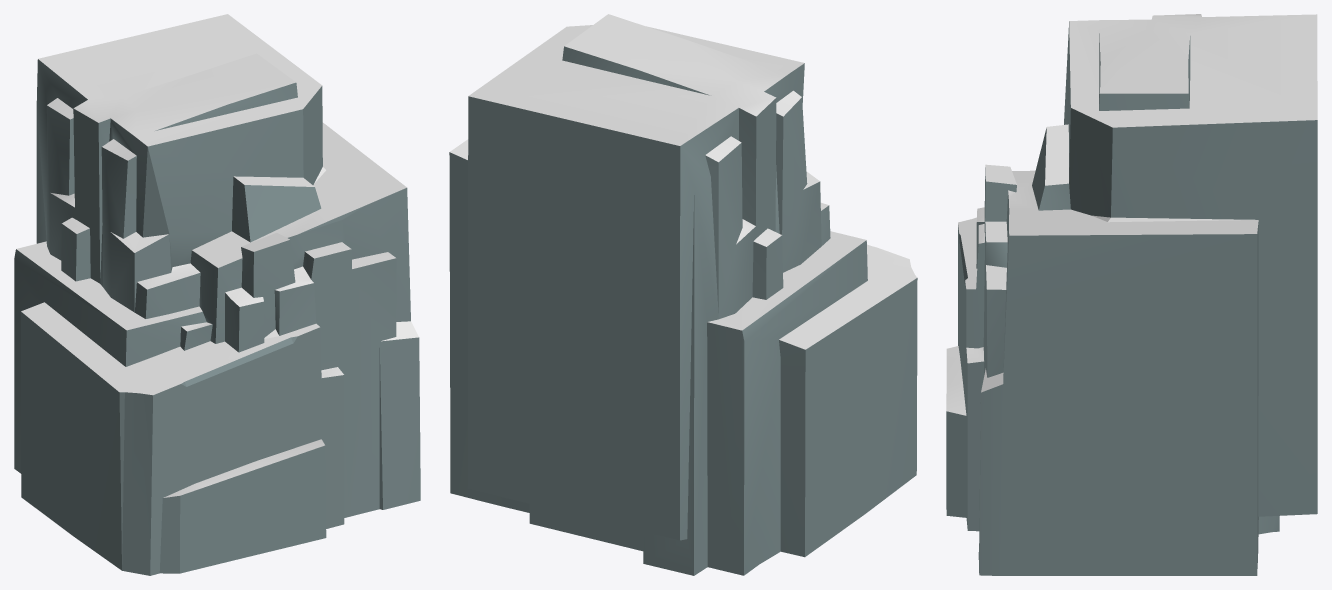
Rendered from SM_Cliff_A 1.fbx.
3 views of the same model, side by side, from view 1: azimuth 30°, elevation 25°; view 2: azimuth 150°, elevation 25°; view 3: azimuth 270°, elevation 25° (orthographic). The views are drawn at different scales.
Parts seen in each view (by area): view 1: Cube.030; view 2: Cube.030; view 3: Cube.030.
Part boxes in pixels (x1,y1,x2,y2): Cube.030: (14,14,420,575); Cube.030: (449,14,917,575); Cube.030: (946,14,1317,575).
Size of the model in its own units: 310 by 392 by 298.
